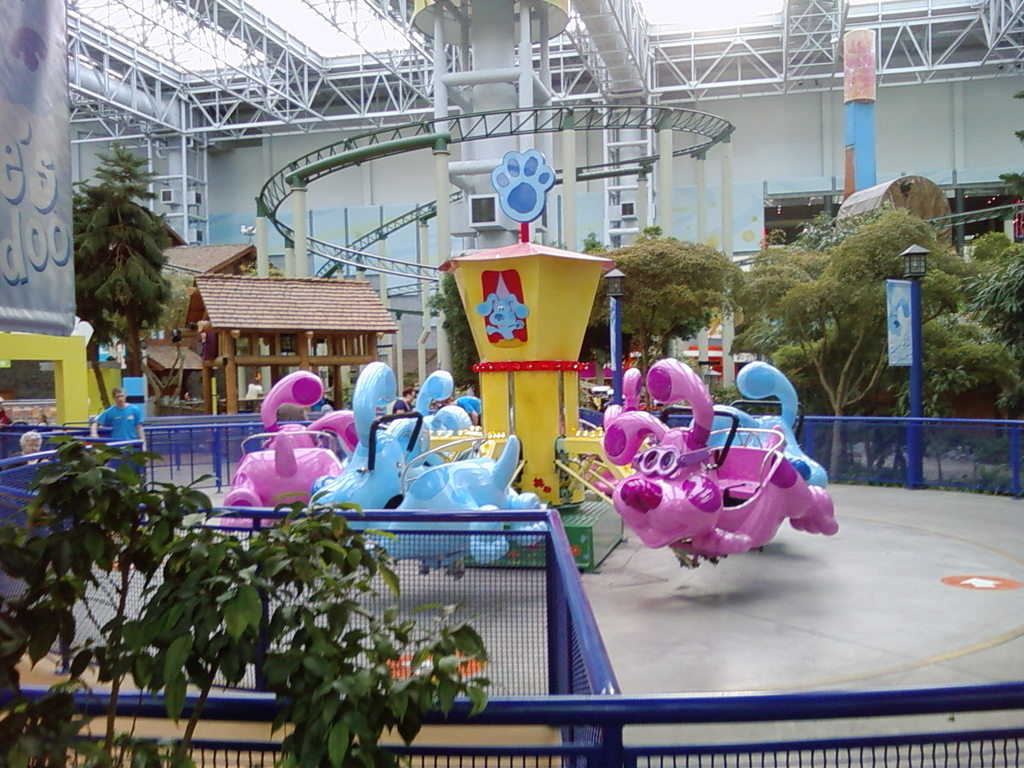Tree: (429, 91, 1024, 482), (73, 137, 171, 375)
